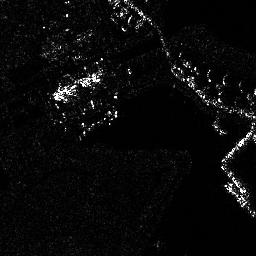ship: (225, 181, 246, 207)
